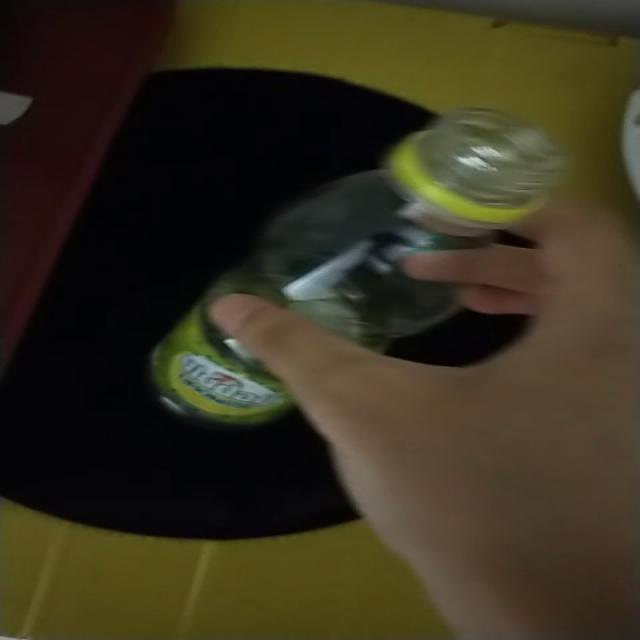plastic: (151, 108, 565, 425)
